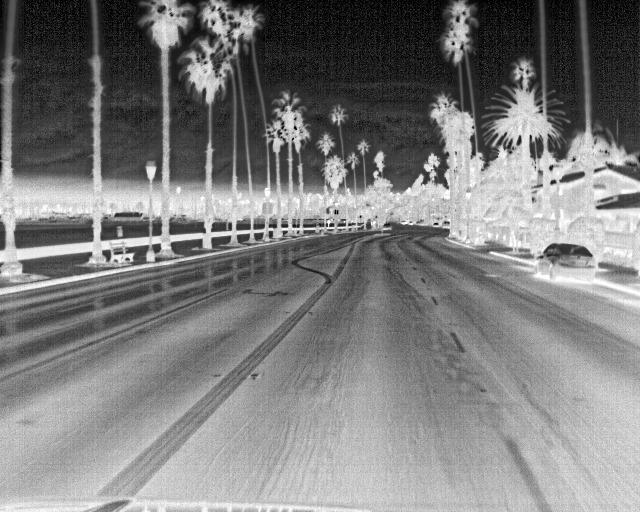car: (536, 243, 599, 282), (440, 220, 452, 232), (382, 221, 392, 232)
